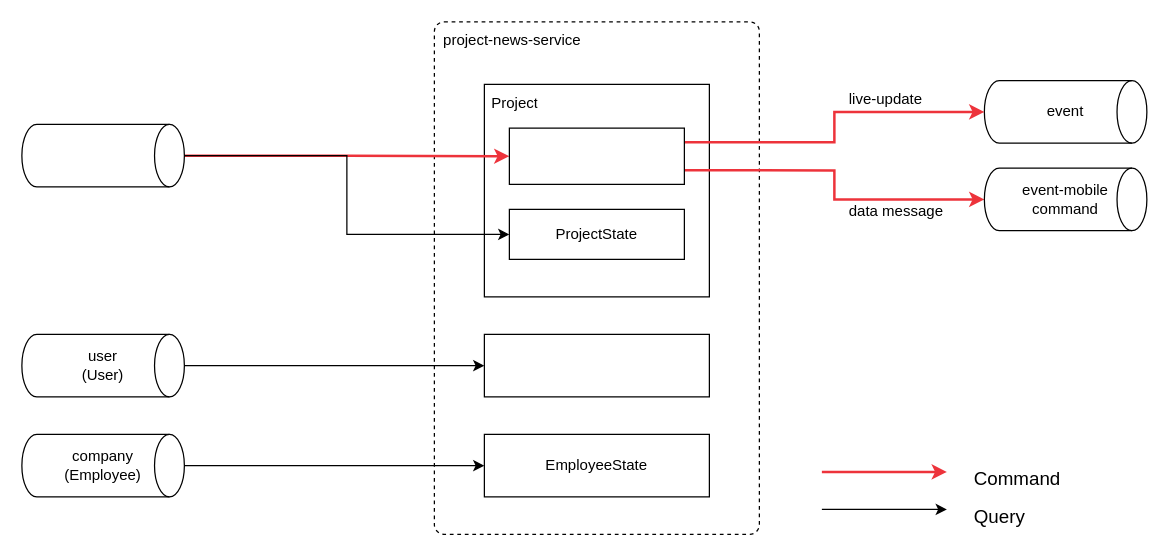
Some shapes in this 1169 by 556 pixel diagram are drawn without their labels. The shapes that lost their labels are listed below. From the top down, each one's centre as x and y in pixels, then its label:
At (102,155): "project (various)".
At (596,155): "News".
At (596,365): "UserState".
